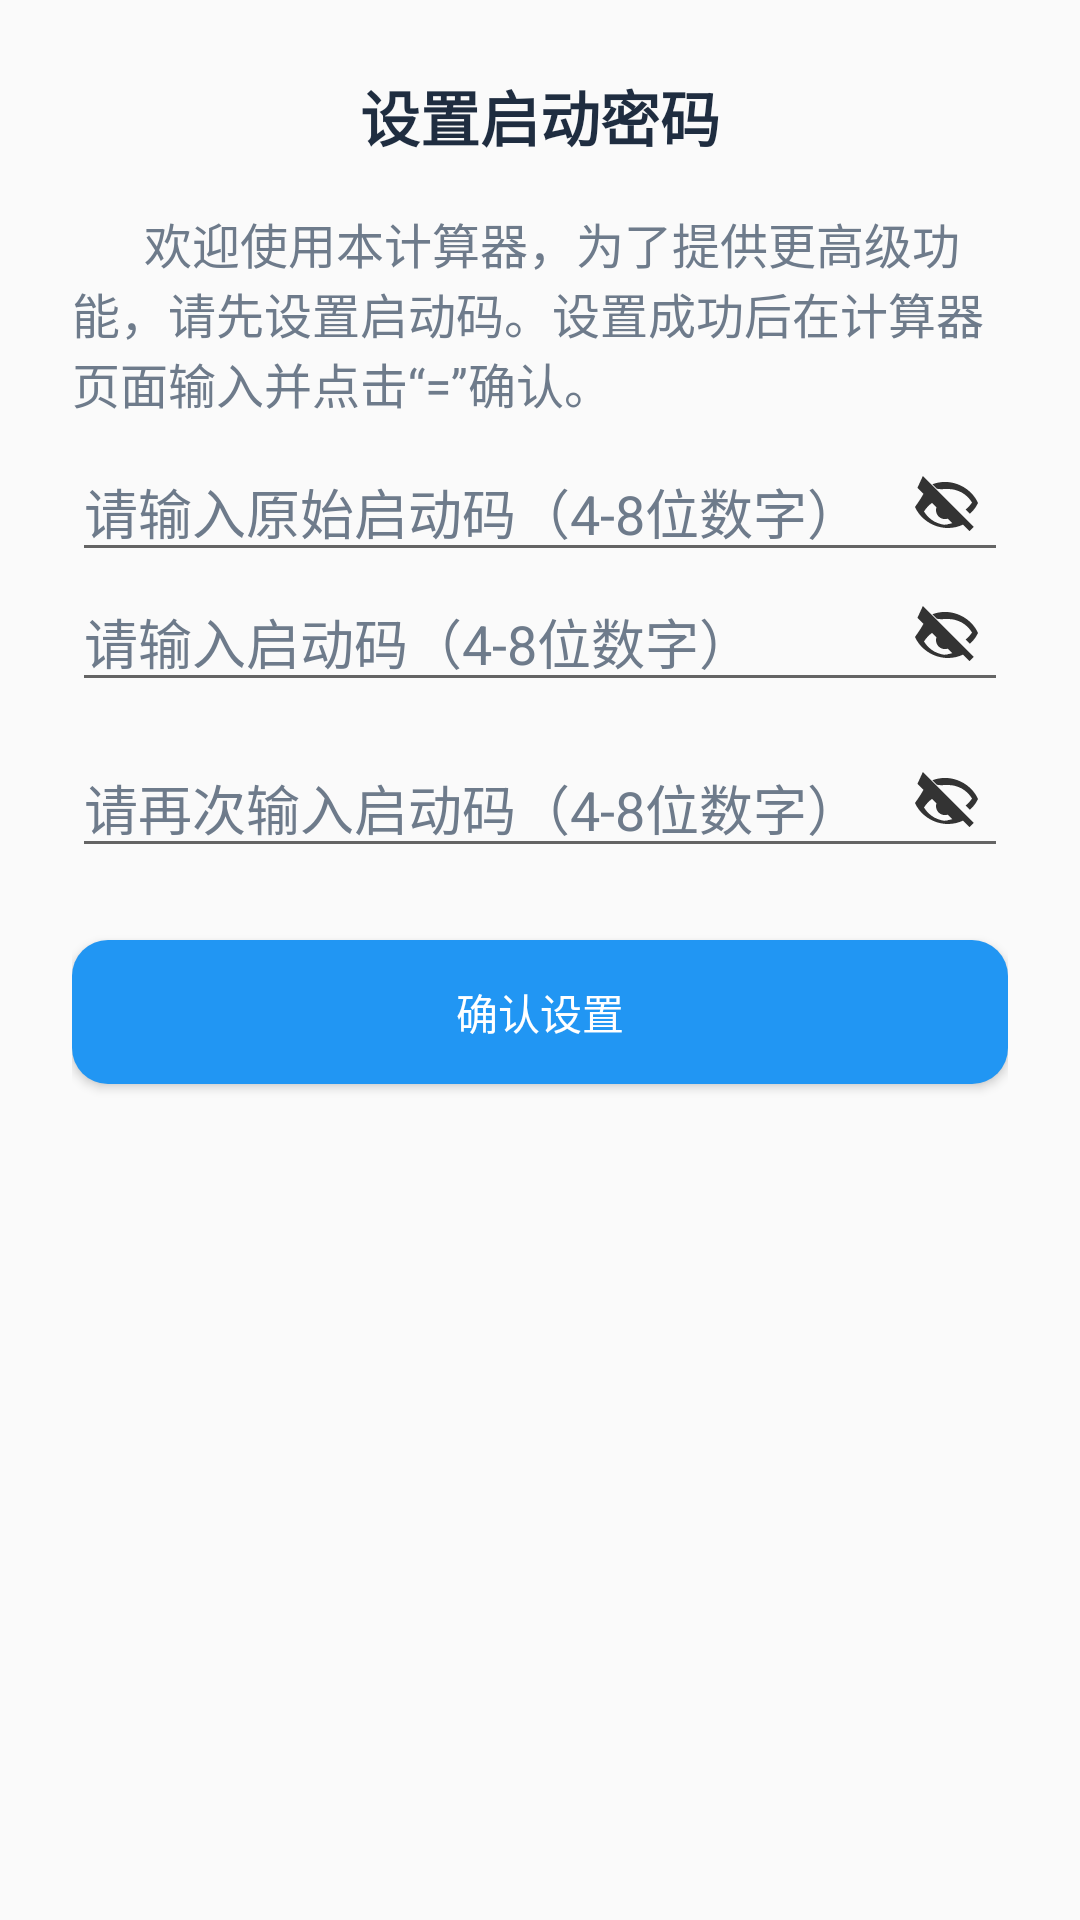

Icon bounding boxes for this 1080px x 1920px phone screenshot, format (x1, y1, x2, y2):
eye close: (915, 476, 978, 531), (915, 606, 978, 661), (915, 772, 978, 827)
